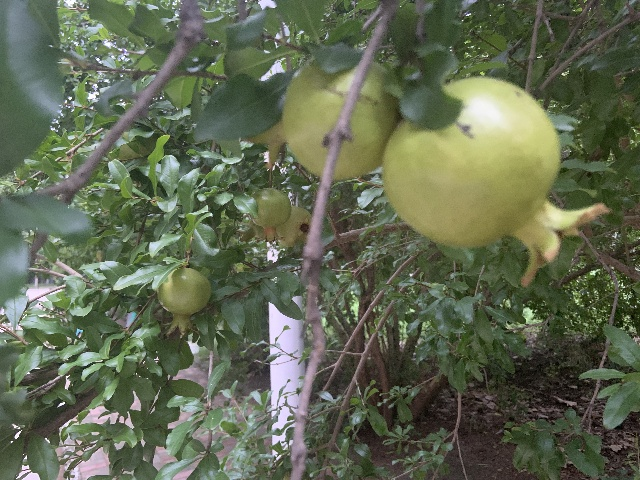mid-growth: (383, 77, 613, 284), (242, 60, 397, 180), (157, 267, 210, 337), (247, 187, 291, 243), (276, 205, 311, 247), (235, 219, 263, 243)
